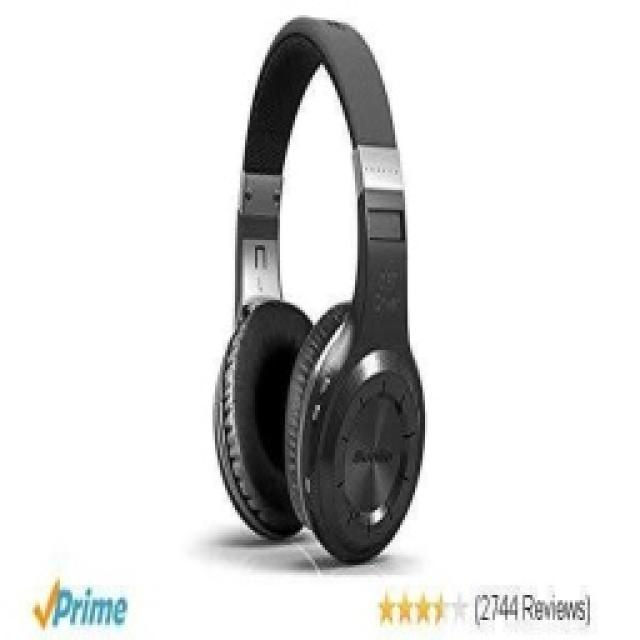headphones: (210, 12, 425, 562)
